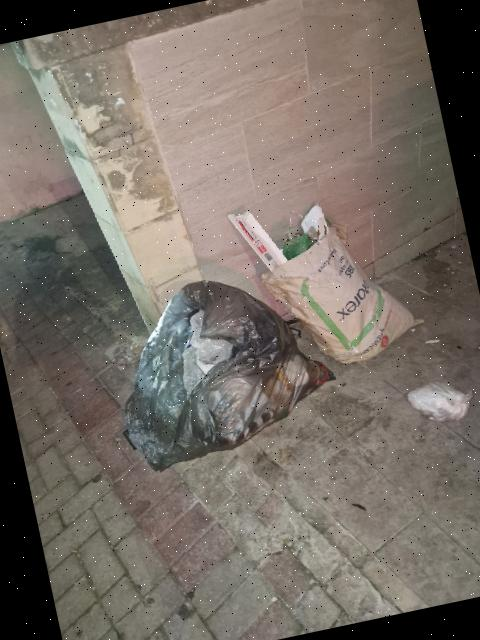Organic -White-: (408, 382, 473, 421)
Other: (228, 205, 414, 363)
Recyclable -Grey-: (126, 280, 333, 470)
